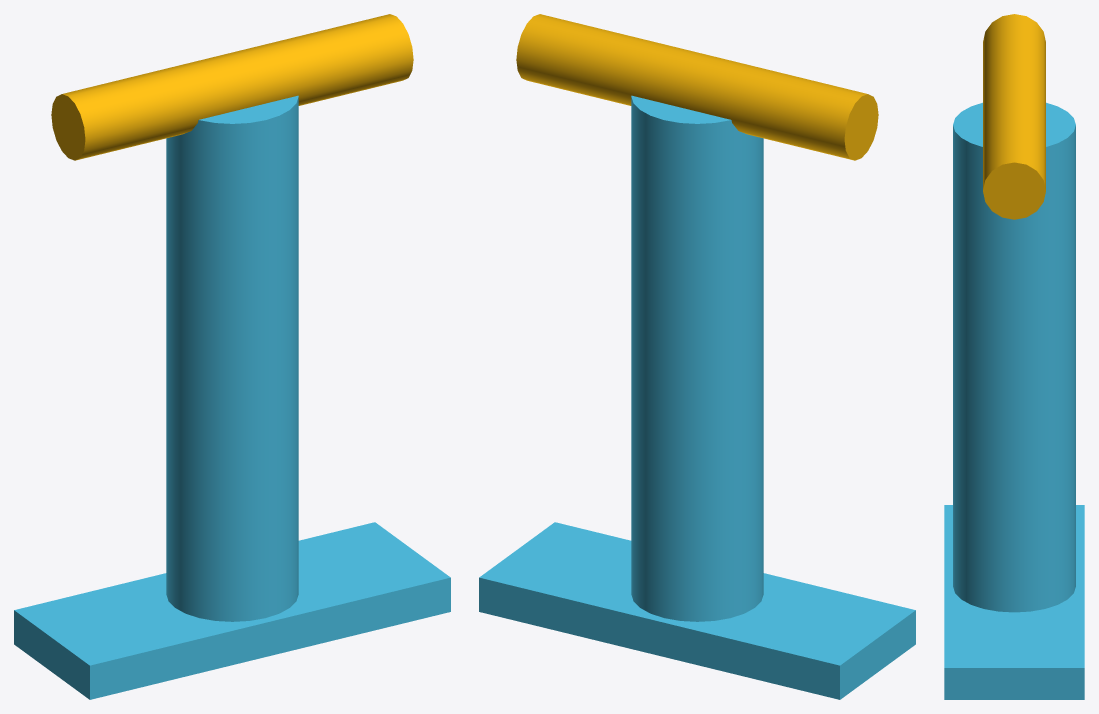
File: bike_pump.glb
3 views of the same model, side by side, from view 1: azimuth 30°, elevation 25°; view 2: azimuth 150°, elevation 25°; view 3: azimuth 270°, elevation 25° (orthographic). The views are drawn at different scales.
Visible parts, largest first — view 1: model_bike_pump; view 2: model_bike_pump; view 3: model_bike_pump.
Part boxes in pixels (bbox=[...]): model_bike_pump: bbox=[14, 14, 450, 699]; model_bike_pump: bbox=[479, 14, 915, 699]; model_bike_pump: bbox=[944, 14, 1084, 699].
Size of the model in its own units: 2.2 by 3.33 by 0.8.
